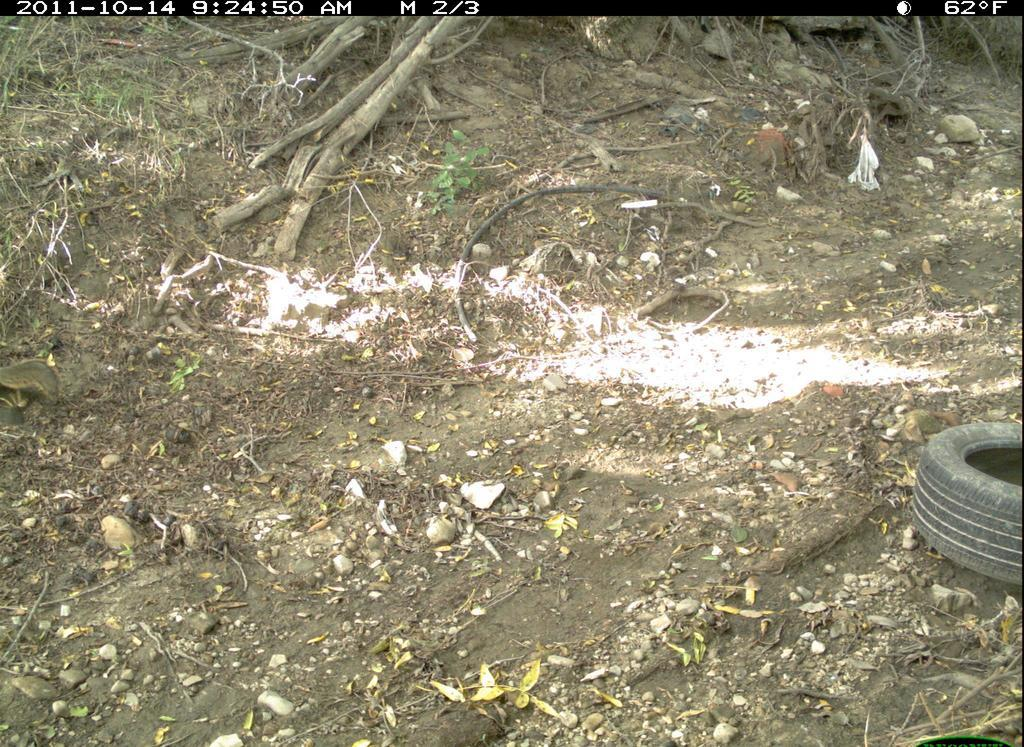squirrel: (6, 346, 65, 425)
